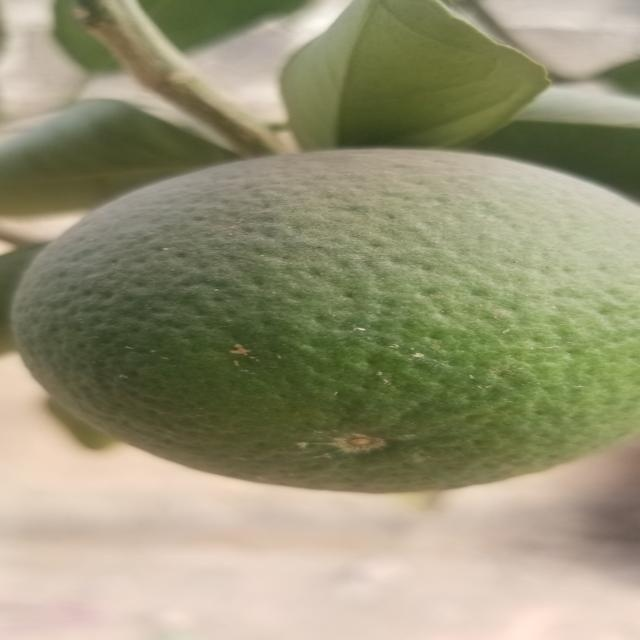agrume: (32, 147, 640, 496)
